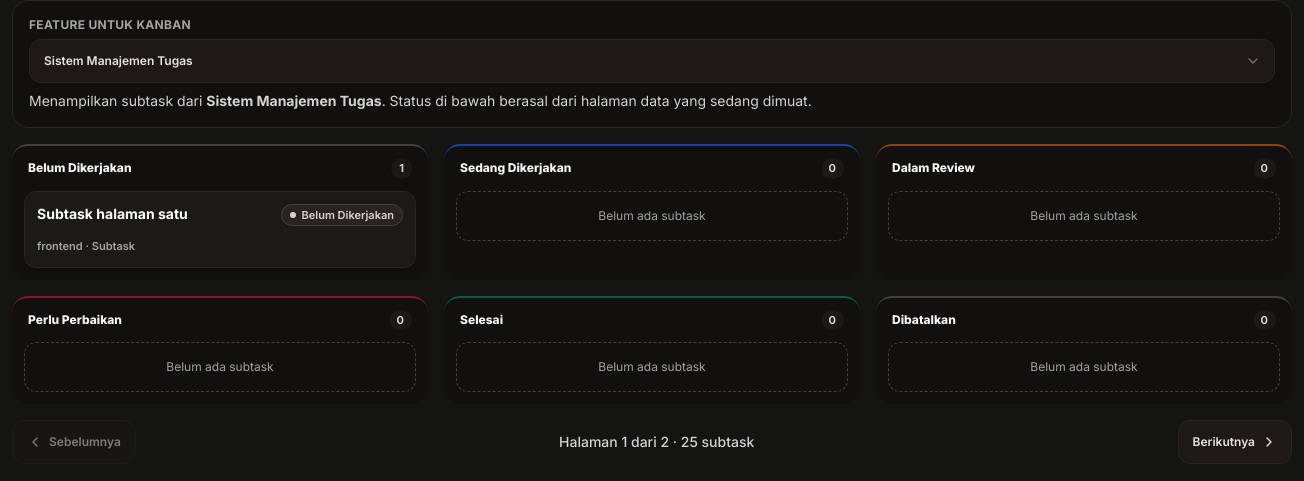
Scenario: Task Hub visual views › paginates subtasks without changing their status
Expected: the text "Subtask halaman satu" is shown, [37,204,188,224]
Click the button "Berikutnya" at (1235, 442), box [1178,420,1292,464]
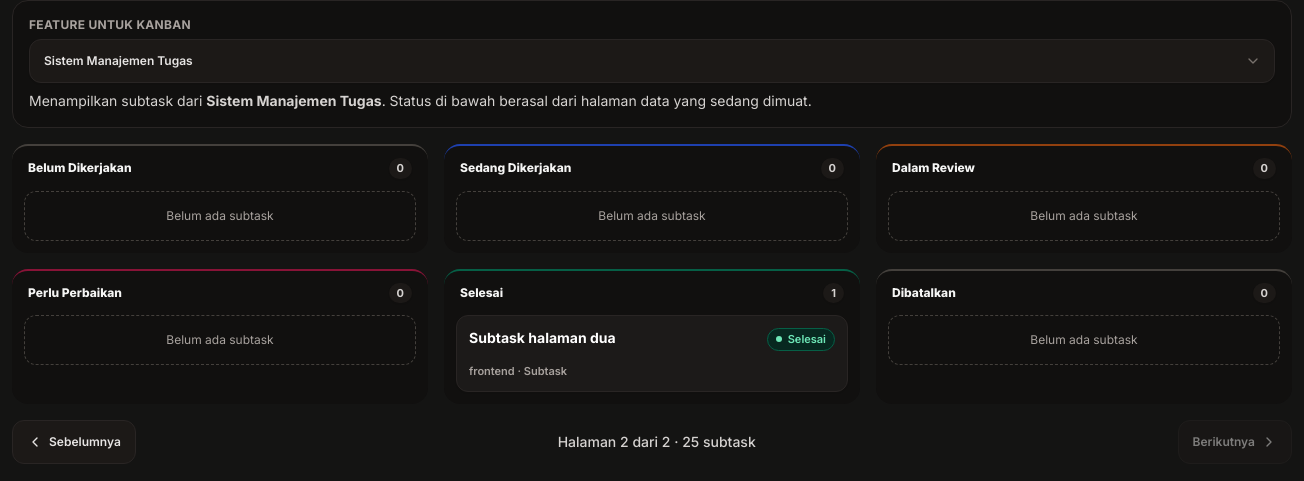
Now the text "Subtask halaman dua" is shown, box [469,328,616,348]
